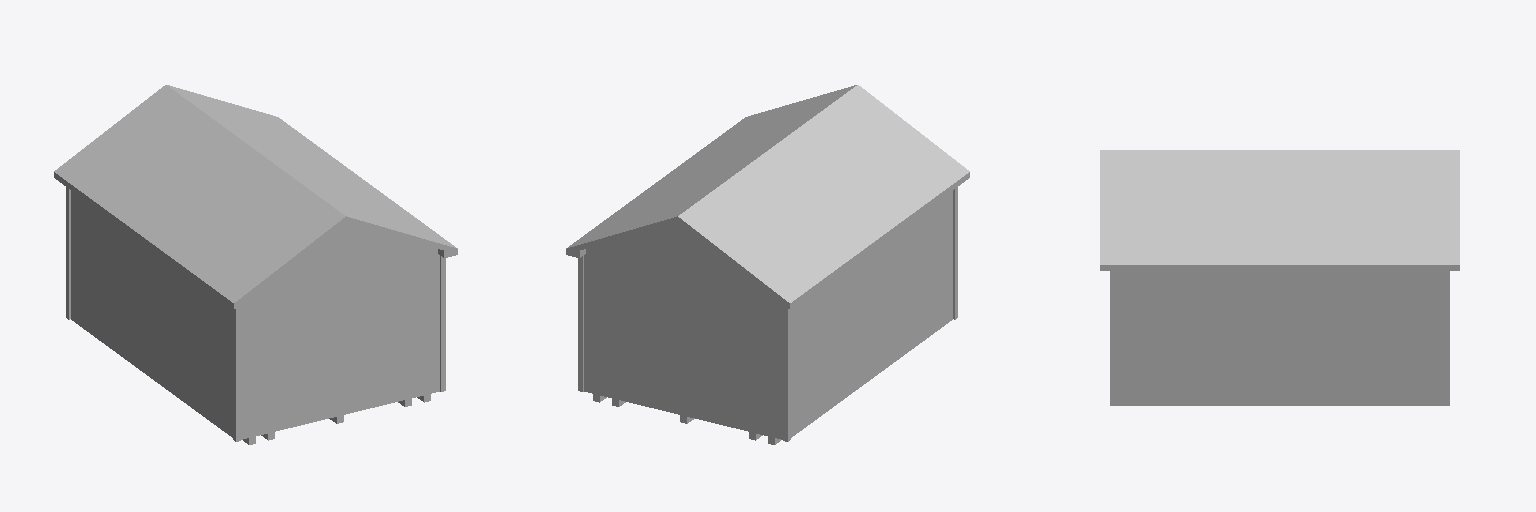
The model's file is Classic A-Frame_10x14.obj.
The picture shows the model from 3 angles: view 1: azimuth 30°, elevation 25°; view 2: azimuth 150°, elevation 25°; view 3: azimuth 270°, elevation 25°; orthographic projection.
Parts seen in each view (by area): view 1: Classic A-Frame_10x14.obj; view 2: Classic A-Frame_10x14.obj; view 3: Classic A-Frame_10x14.obj.
Part boxes in pixels (left/top/right/bottom): Classic A-Frame_10x14.obj: left=54, top=85, right=457, bottom=444; Classic A-Frame_10x14.obj: left=566, top=85, right=969, bottom=444; Classic A-Frame_10x14.obj: left=1100, top=150, right=1459, bottom=405.
Size of the model in its own units: 3.29 by 2.96 by 4.57.